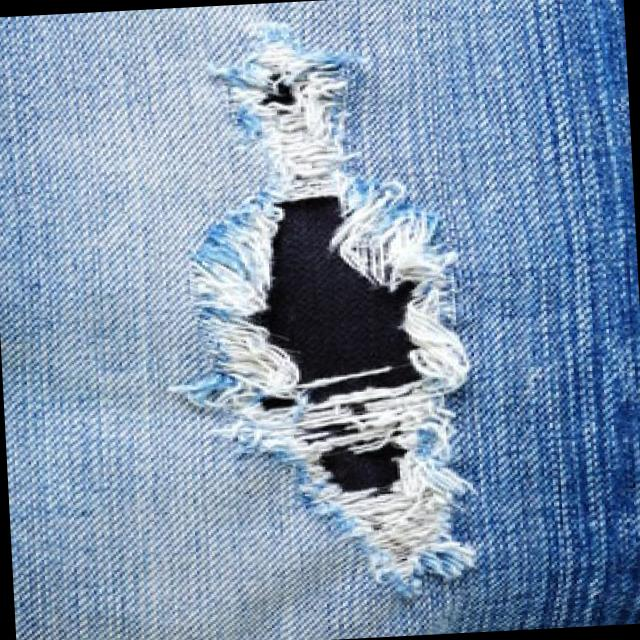hole: (186, 32, 475, 590)
